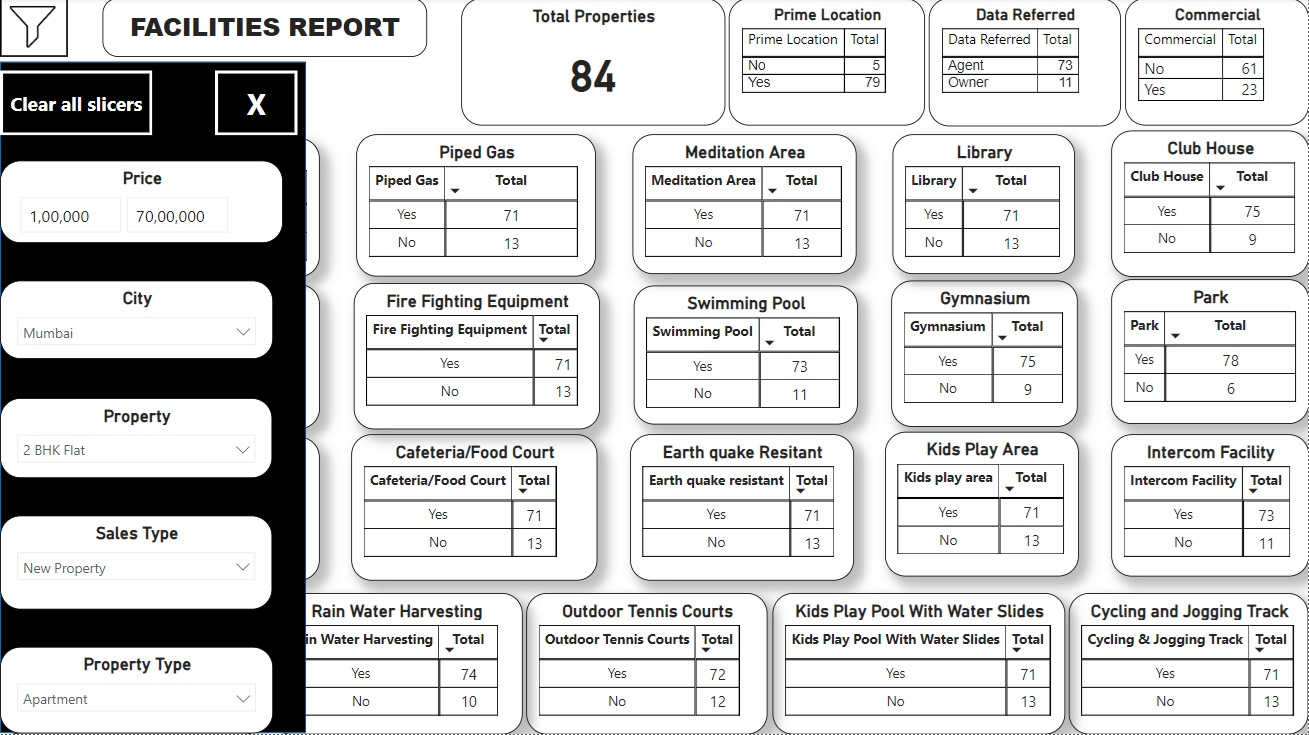

What the dashboard file says about the page in this screenshot:
{"tool":"powerbi","page":{"name":"Facilites","canvas":[1280,720],"ordinal":1},"visuals":[{"type":"card","title":"Total Properties","fields":{"Values":["CountNonNull(properties.ID)"]},"box":[451.2,0,258,124.7],"z":0},{"type":"tableEx","title":"Commercial","fields":{"Values":["properties.Commercial","CountNonNull(properties.Commercial)"]},"box":[1100.2,0,179.8,124.7],"z":1000},{"type":"textbox","box":[99.7,0,317.9,57.5],"z":2000},{"type":"tableEx","title":"Data Referred","fields":{"Values":["properties.Data Referred From","CountNonNull(properties.Data Referred From)"]},"box":[908.9,0,187.8,125.2],"z":3000},{"type":"tableEx","title":"Prime Location","fields":{"Values":["properties.isPrimeLocationProperty","CountNonNull(properties.isPrimeLocationProperty)"]},"box":[713.1,0,192,124.7],"z":4000},{"type":"image","box":[0,0,66,57.5],"z":5000},{"type":"shape","box":[0,47.7,451.2,29.3],"z":9000},{"type":"shape","box":[0,110.1,461,29.3],"z":10000},{"type":"textbox","box":[0,77,226.2,33],"z":11000},{"type":"shape","box":[212.8,64.8,66,59.9],"z":12000},{"type":"actionButton","box":[289.8,73.4,100.3,40.4],"z":13000},{"type":"pivotTable","title":"Swimming Pool","fields":{"Rows":["properties.Swimming Pool"],"Values":["CountNonNull(properties.Swimming Pool)"]},"box":[620,280.6,218.9,135.7],"z":14000},{"type":"pivotTable","title":"Club House","fields":{"Rows":["properties.Club House"],"Values":["CountNonNull(properties.Club House)"]},"box":[1086.8,129.6,193.2,143.1],"z":15000},{"type":"pivotTable","title":"Gymnasium","fields":{"Rows":["properties.Gymnasium"],"Values":["CountNonNull(properties.Gymnasium)"]},"box":[871.9,275.7,182.2,143.1],"z":16000},{"type":"pivotTable","title":"Park","fields":{"Rows":["properties.Park"],"Values":["CountNonNull(properties.Park)"]},"box":[1086.8,275.1,193.2,141.8],"z":17000},{"type":"pivotTable","title":"Lift","fields":{"Rows":["properties.Lift"],"Values":["CountNonNull(properties.Lift)"]},"box":[9.8,280,303.3,141.8],"z":18000},{"type":"pivotTable","title":"Piped Gas","fields":{"Rows":["properties.Piped Gas"],"Values":["CountNonNull(properties.Piped Gas)"]},"box":[348.5,133.3,234.8,139.4],"z":19000},{"type":"pivotTable","title":"Earth quake Resitant","fields":{"Rows":["properties.Earth quake resistant"],"Values":["CountNonNull(properties.Earth quake resistant)"]},"box":[616.2,426.8,218.9,143.1],"z":20000},{"type":"pivotTable","title":"Cafeteria/Food Court","fields":{"Rows":["properties.Cafeteria/Food Court"],"Values":["CountNonNull(properties.Cafeteria/Food Court)"]},"box":[344.2,426.8,240.9,143.1],"z":21000},{"type":"pivotTable","title":"Indoor Squash and Badminton Courts","fields":{"Rows":["properties.Indoor Squash & Badminton Courts"],"Values":["CountNonNull(properties.Indoor Squash & Badminton Courts)"]},"box":[0,429.2,313,140.6],"z":22000},{"type":"pivotTable","title":"Smart Home","fields":{"Rows":["properties.Smart Home"],"Values":["CountNonNull(properties.Smart Home)"]},"box":[0,137,313,135.7],"z":23000},{"type":"pivotTable","title":"Library","fields":{"Rows":["properties.Library"],"Values":["CountNonNull(properties.Library)"]},"box":[873.1,133.3,178.5,137],"z":24000},{"type":"pivotTable","title":"Cycling and Jogging Track","fields":{"Rows":["properties.Cycling & Jogging Track"],"Values":["CountNonNull(properties.Cycling & Jogging Track)"]},"box":[1045.2,582.1,234.8,138.2],"z":25000},{"type":"pivotTable","title":"Intercom Facility","fields":{"Rows":["properties.Intercom Facility"],"Values":["CountNonNull(properties.Intercom Facility)"]},"box":[1086.8,426.8,193.2,139.4],"z":26000},{"type":"pivotTable","title":"Kids Play Area","fields":{"Rows":["properties.Kids play area"],"Values":["CountNonNull(properties.Kids play area)"]},"box":[866.1,424.3,189.5,141.8],"z":27000},{"type":"pivotTable","title":"Kids Play Pool With Water Slides","fields":{"Rows":["properties.Kids Play Pool With Water Slides"],"Values":["CountNonNull(properties.Kids Play Pool With Water Slides)"]},"box":[755.1,582.1,286.1,138.2],"z":28000},{"type":"pivotTable","title":"Outdoor Tennis Courts","fields":{"Rows":["properties.Outdoor Tennis Courts"],"Values":["CountNonNull(properties.Outdoor Tennis Courts)"]},"box":[514.8,582.1,236,138.2],"z":29000},{"type":"pivotTable","title":"Rain Water Harvesting","fields":{"Rows":["properties.Rain Water Harvesting"],"Values":["CountNonNull(properties.Rain Water Harvesting)"]},"box":[263.5,582.1,247,138.2],"z":30000},{"type":"pivotTable","title":"Jogging and Strolling Track","fields":{"Rows":["properties.Jogging and Strolling Track"],"Values":["CountNonNull(properties.Jogging and Strolling Track)"]},"box":[0,582.1,259.2,138.2],"z":31000},{"type":"pivotTable","title":"Fire Fighting Equipment","fields":{"Rows":["properties.Fire Fighting Equipment"],"Values":["CountNonNull(properties.Fire Fighting Equipment)"]},"box":[346.1,278.2,240.9,143.1],"z":32000},{"type":"pivotTable","title":"Meditation Area","fields":{"Rows":["properties.Meditation Area"],"Values":["CountNonNull(properties.Meditation Area)"]},"box":[618.8,133.3,218.9,137],"z":33000}]}

Visuals, with their boxes in screenshot pixels (x1, y1, x2, y2), scaled from the page's 1280x720 canvas onto the 1309x735 screenshot:
"Total Properties" card: [left=461, top=0, right=725, bottom=127]
"Commercial" tableEx: [left=1125, top=0, right=1308, bottom=127]
textbox: [left=102, top=0, right=427, bottom=59]
"Data Referred" tableEx: [left=929, top=0, right=1122, bottom=128]
"Prime Location" tableEx: [left=729, top=0, right=926, bottom=127]
image: [left=0, top=0, right=67, bottom=59]
shape: [left=0, top=49, right=461, bottom=79]
shape: [left=0, top=112, right=471, bottom=142]
textbox: [left=0, top=79, right=231, bottom=112]
shape: [left=218, top=66, right=285, bottom=127]
actionButton: [left=296, top=75, right=399, bottom=116]
"Swimming Pool" pivotTable: [left=634, top=286, right=858, bottom=425]
"Club House" pivotTable: [left=1111, top=132, right=1308, bottom=278]
"Gymnasium" pivotTable: [left=892, top=281, right=1078, bottom=428]
"Park" pivotTable: [left=1111, top=281, right=1308, bottom=426]
"Lift" pivotTable: [left=10, top=286, right=320, bottom=431]
"Piped Gas" pivotTable: [left=356, top=136, right=597, bottom=278]
"Earth quake Resitant" pivotTable: [left=630, top=436, right=854, bottom=582]
"Cafeteria/Food Court" pivotTable: [left=352, top=436, right=598, bottom=582]
"Indoor Squash and Badminton Courts" pivotTable: [left=0, top=438, right=320, bottom=582]
"Smart Home" pivotTable: [left=0, top=140, right=320, bottom=278]
"Library" pivotTable: [left=893, top=136, right=1075, bottom=276]
"Cycling and Jogging Track" pivotTable: [left=1069, top=594, right=1308, bottom=734]
"Intercom Facility" pivotTable: [left=1111, top=436, right=1308, bottom=578]
"Kids Play Area" pivotTable: [left=886, top=433, right=1080, bottom=578]
"Kids Play Pool With Water Slides" pivotTable: [left=772, top=594, right=1065, bottom=734]
"Outdoor Tennis Courts" pivotTable: [left=526, top=594, right=768, bottom=734]
"Rain Water Harvesting" pivotTable: [left=269, top=594, right=522, bottom=734]
"Jogging and Strolling Track" pivotTable: [left=0, top=594, right=265, bottom=734]
"Fire Fighting Equipment" pivotTable: [left=354, top=284, right=600, bottom=430]
"Meditation Area" pivotTable: [left=633, top=136, right=857, bottom=276]
